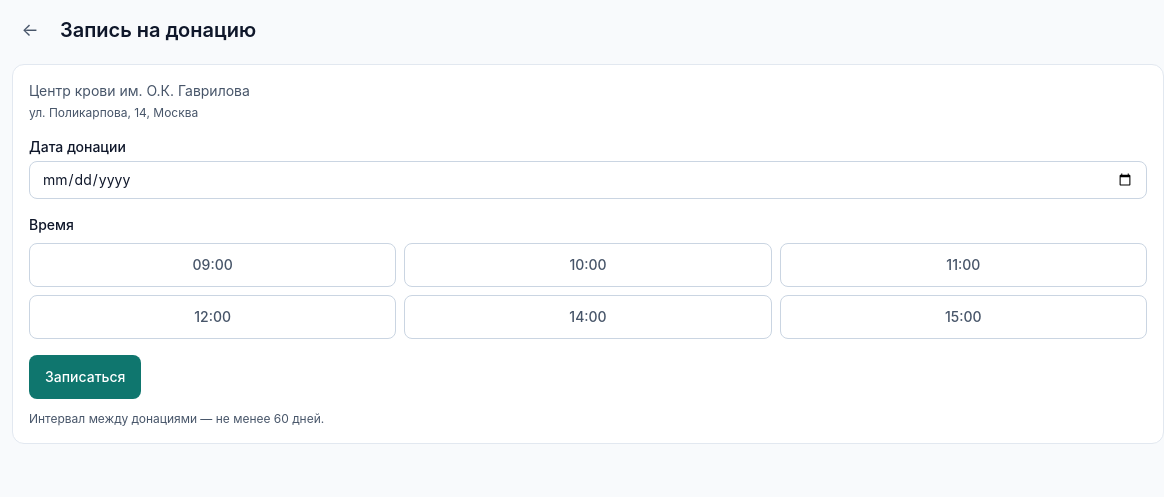
it: BookingPage — ошибки API (матрица ошибок ТЗ) › занятый слот: «Выберите другое время»
Type "2026-06-01" into the date field labelled "Дата донации".
click(588, 180); type("2026-06-01")  # box [29,161,1147,199]
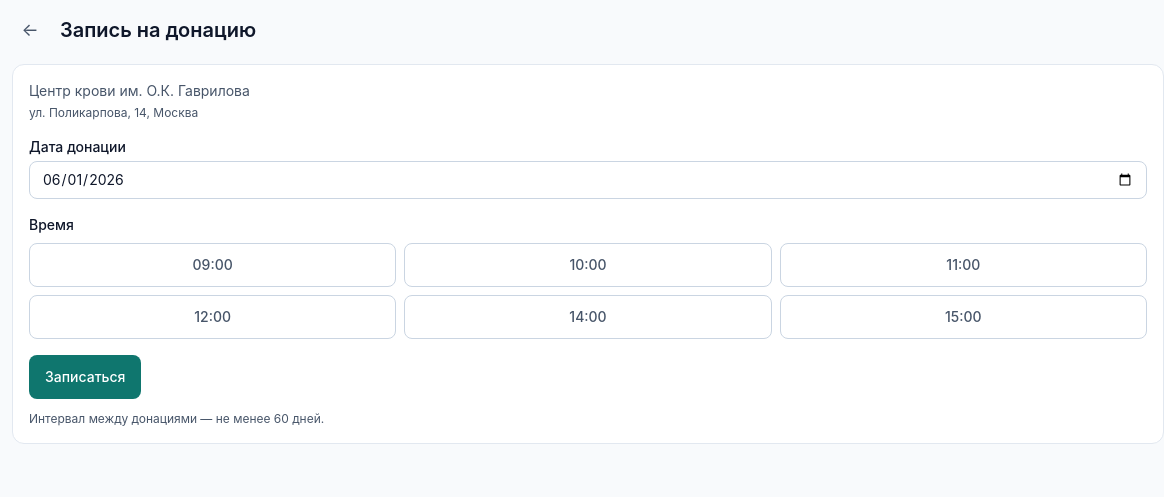
Click the button "10:00".
click(588, 265)  # box [404,243,772,287]
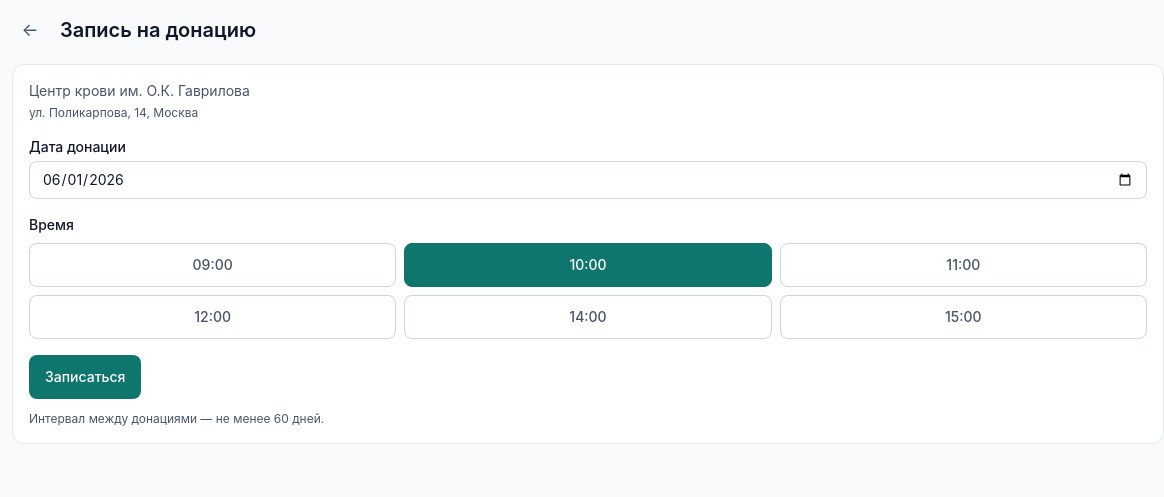
Click the button "Записаться".
click(85, 377)  # box [29,355,142,399]
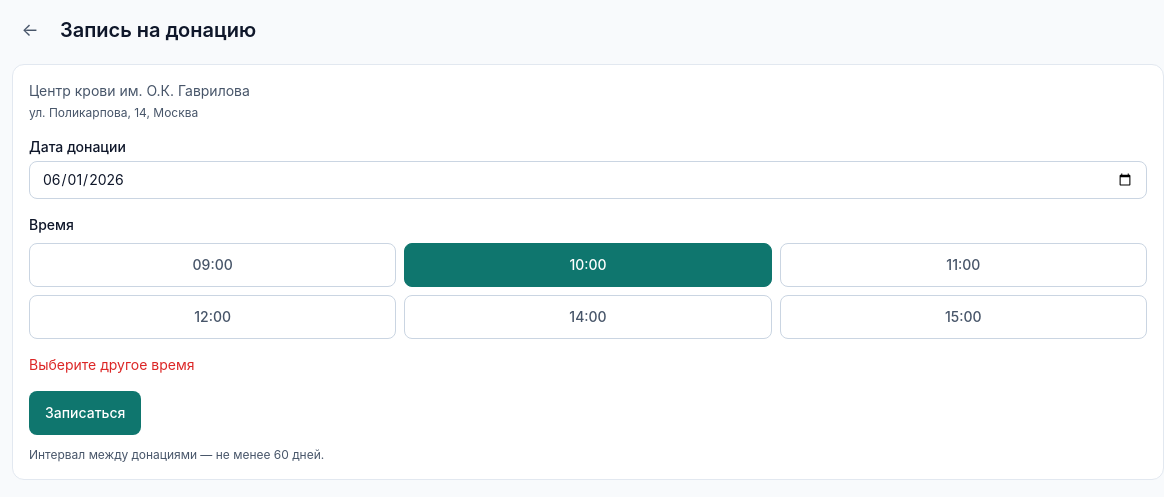
Expected: the text "Выберите другое время" is shown, [29,356,194,373]
